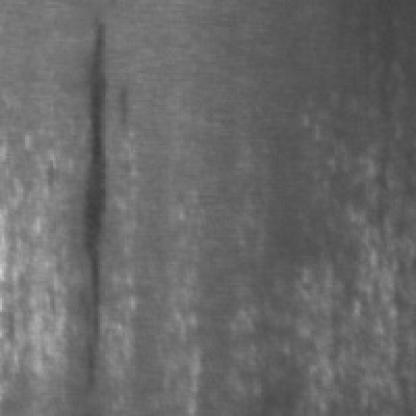inclusion: (66, 17, 127, 393)
